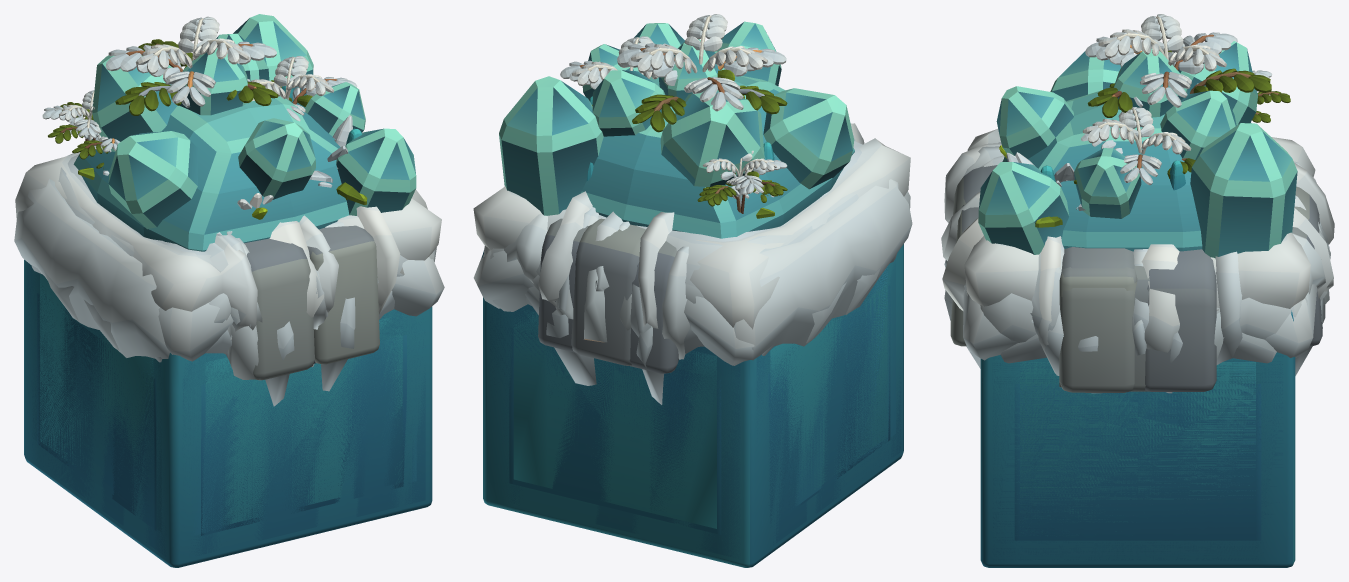
Rendered from Winter_Cubes_LastLastLast.fbx.
The picture shows the model from 3 angles, left to right: view 1: azimuth 30°, elevation 25°; view 2: azimuth 150°, elevation 25°; view 3: azimuth 270°, elevation 25°; orthographic projection. The views are drawn at different scales.
Parts seen in each view (by area): view 1: Winter_Cube_03 .002, Winter4, Winter1, Winter9, Winter2, Winter_Cube5.003, Winter_Cube3.001, Winter3, Winter5, Winter_Cube_12.001, Road10.002, Road12.002 (+9 smaller); view 2: Winter_Cube_03 .002, Winter1, Winter4, Winter_Cube5.003, Winter_Cube3.001, Winter6, Winter9, Winter3, Winter_Cube_12.001, Road9.002, Winter5, Winter2 (+10 smaller); view 3: Winter_Cube_03 .002, Winter3, Winter4, Winter1, Winter_Cube3.001, Road10.002, Winter_Cube_12.001, Road11.002, Winter_Cube12.002, Winter9, Winter_Cube4.003, Winter_Cube_05 .001 (+14 smaller).
Boxes of the visible parts, x1,y1,x2,y2 form: Winter_Cube_03 .002: [73, 14, 416, 251]; Winter4: [24, 260, 432, 567]; Winter1: [40, 274, 402, 525]; Winter9: [26, 262, 425, 556]; Winter2: [37, 293, 406, 535]; Winter_Cube5.003: [14, 178, 436, 379]; Winter_Cube3.001: [15, 152, 441, 339]; Winter3: [37, 294, 401, 535]; Winter5: [32, 269, 416, 535]; Winter_Cube_12.001: [105, 16, 362, 219]; Road10.002: [244, 238, 314, 380]; Road12.002: [307, 225, 379, 364]; Winter_Cube_03 .002: [499, 21, 854, 238]; Winter1: [513, 281, 887, 528]; Winter4: [483, 244, 903, 567]; Winter_Cube5.003: [483, 179, 912, 365]; Winter_Cube3.001: [473, 123, 910, 329]; Winter6: [513, 266, 887, 511]; Winter9: [481, 250, 901, 559]; Winter3: [509, 285, 890, 534]; Winter_Cube_12.001: [589, 14, 787, 132]; Road9.002: [571, 218, 645, 365]; Winter5: [507, 258, 895, 531]; Winter2: [510, 288, 890, 505]; Winter_Cube_03 .002: [978, 41, 1297, 258]; Winter3: [1014, 384, 1261, 540]; Winter4: [980, 352, 1295, 567]; Winter1: [1020, 362, 1255, 532]; Winter_Cube3.001: [941, 129, 1334, 310]; Road10.002: [953, 165, 1134, 392]; Winter_Cube_12.001: [999, 14, 1271, 190]; Road11.002: [1145, 249, 1216, 391]; Winter_Cube12.002: [942, 217, 1179, 373]; Winter9: [992, 310, 1293, 560]; Winter_Cube4.003: [963, 284, 1327, 375]; Winter_Cube_05 .001: [1073, 107, 1195, 185].
Bounding box in the file's own units: 119 × 164 × 125.
